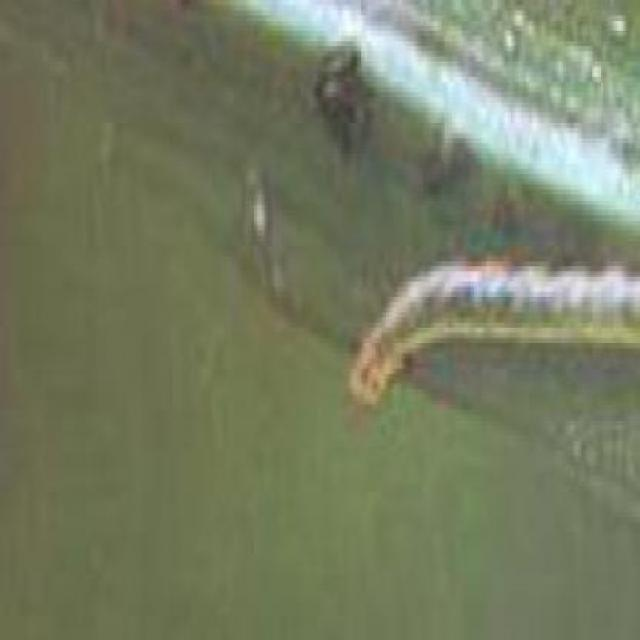leaf-folder: (344, 215, 640, 432)
